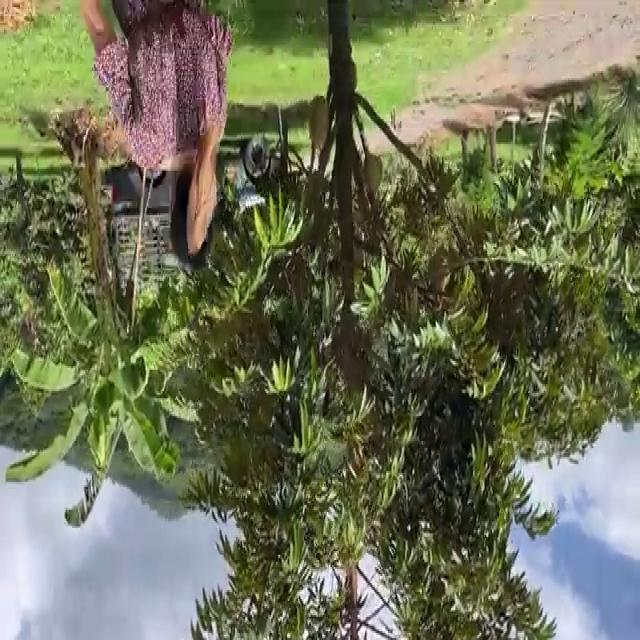durian: (306, 95, 331, 151), (361, 150, 384, 198)
